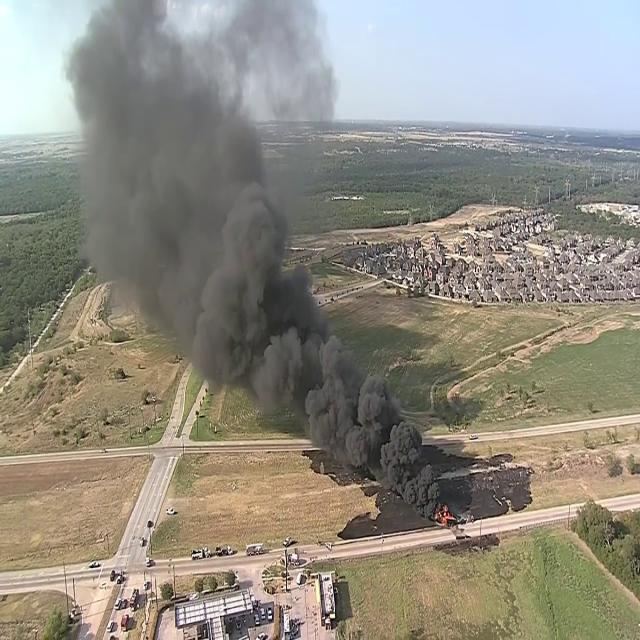Smoke: (52, 0, 446, 502)
